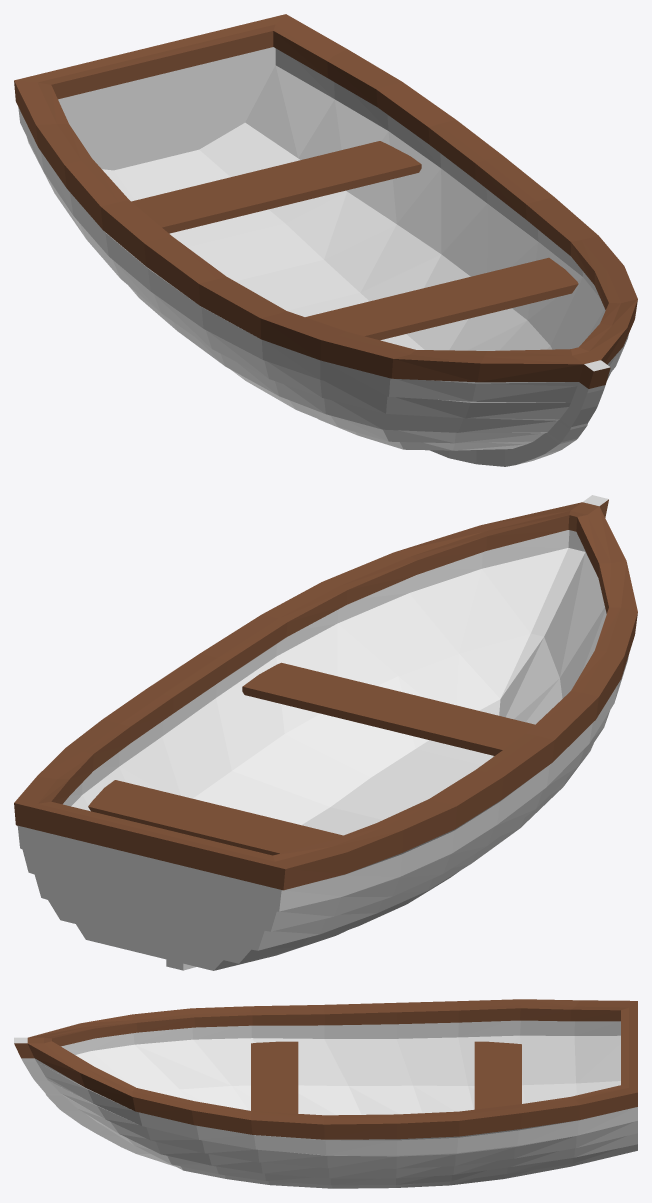
The model's file is Rowboat by Poly by Google - adoP7kR7S17.glb.
The picture shows the model from 3 angles, top to bottom: view 1: azimuth 30°, elevation 25°; view 2: azimuth 150°, elevation 25°; view 3: azimuth 270°, elevation 25°; orthographic projection. The views are drawn at different scales.
Parts seen in each view (by area): view 1: Rowboat; view 2: Rowboat; view 3: Rowboat.
Part boxes in pixels (x1,y1,x2,y2): Rowboat: [14, 14, 637, 466]; Rowboat: [14, 495, 637, 970]; Rowboat: [14, 999, 637, 1188].
Bounding box in the file's own units: 32.09 × 17.67 × 70.03.
1 material, 1 textured.
